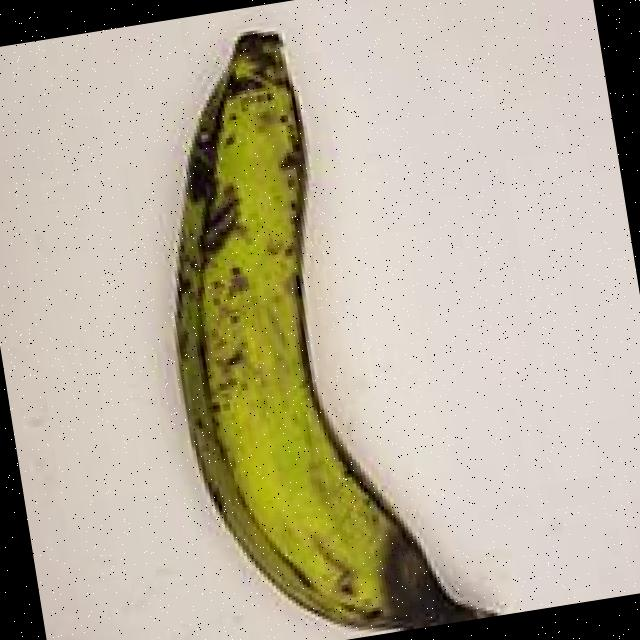Overripe: (82, 0, 535, 640)
